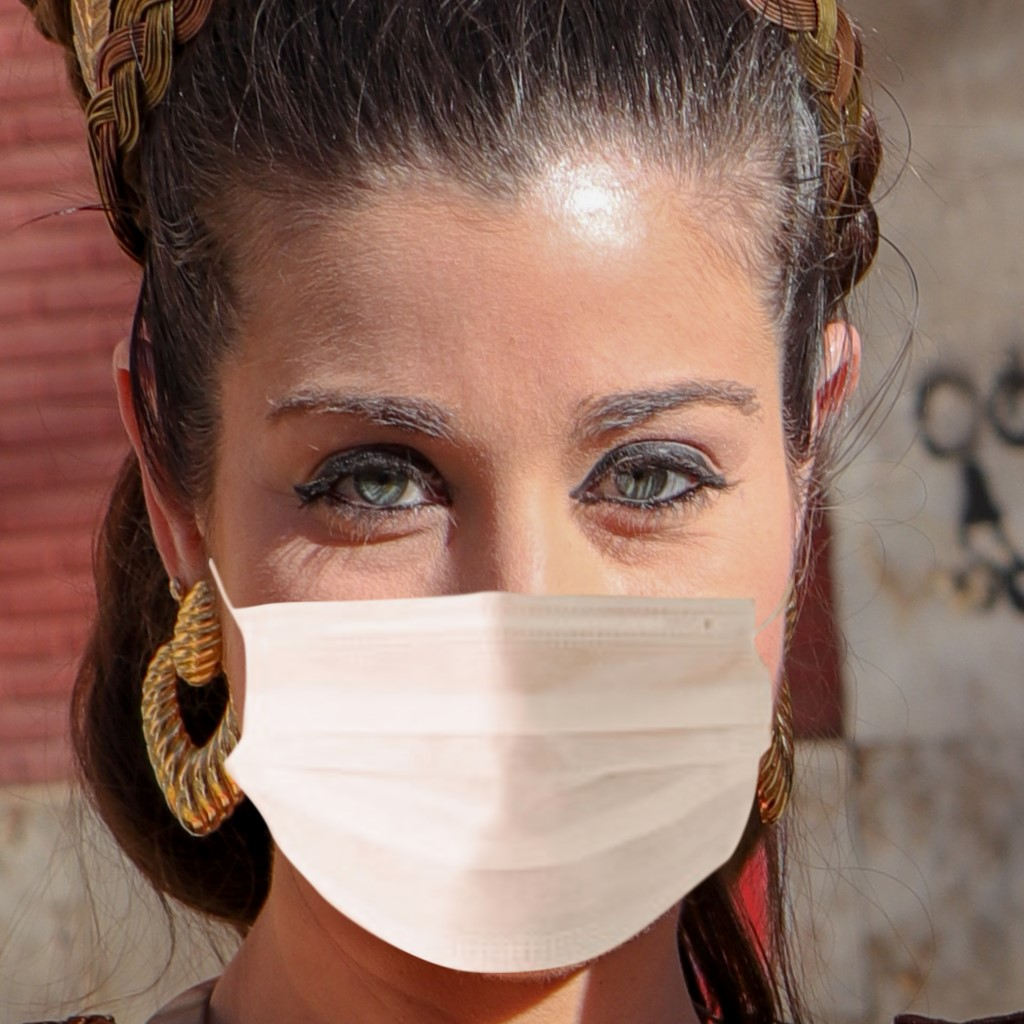con_mascara: (153, 143, 807, 940)
